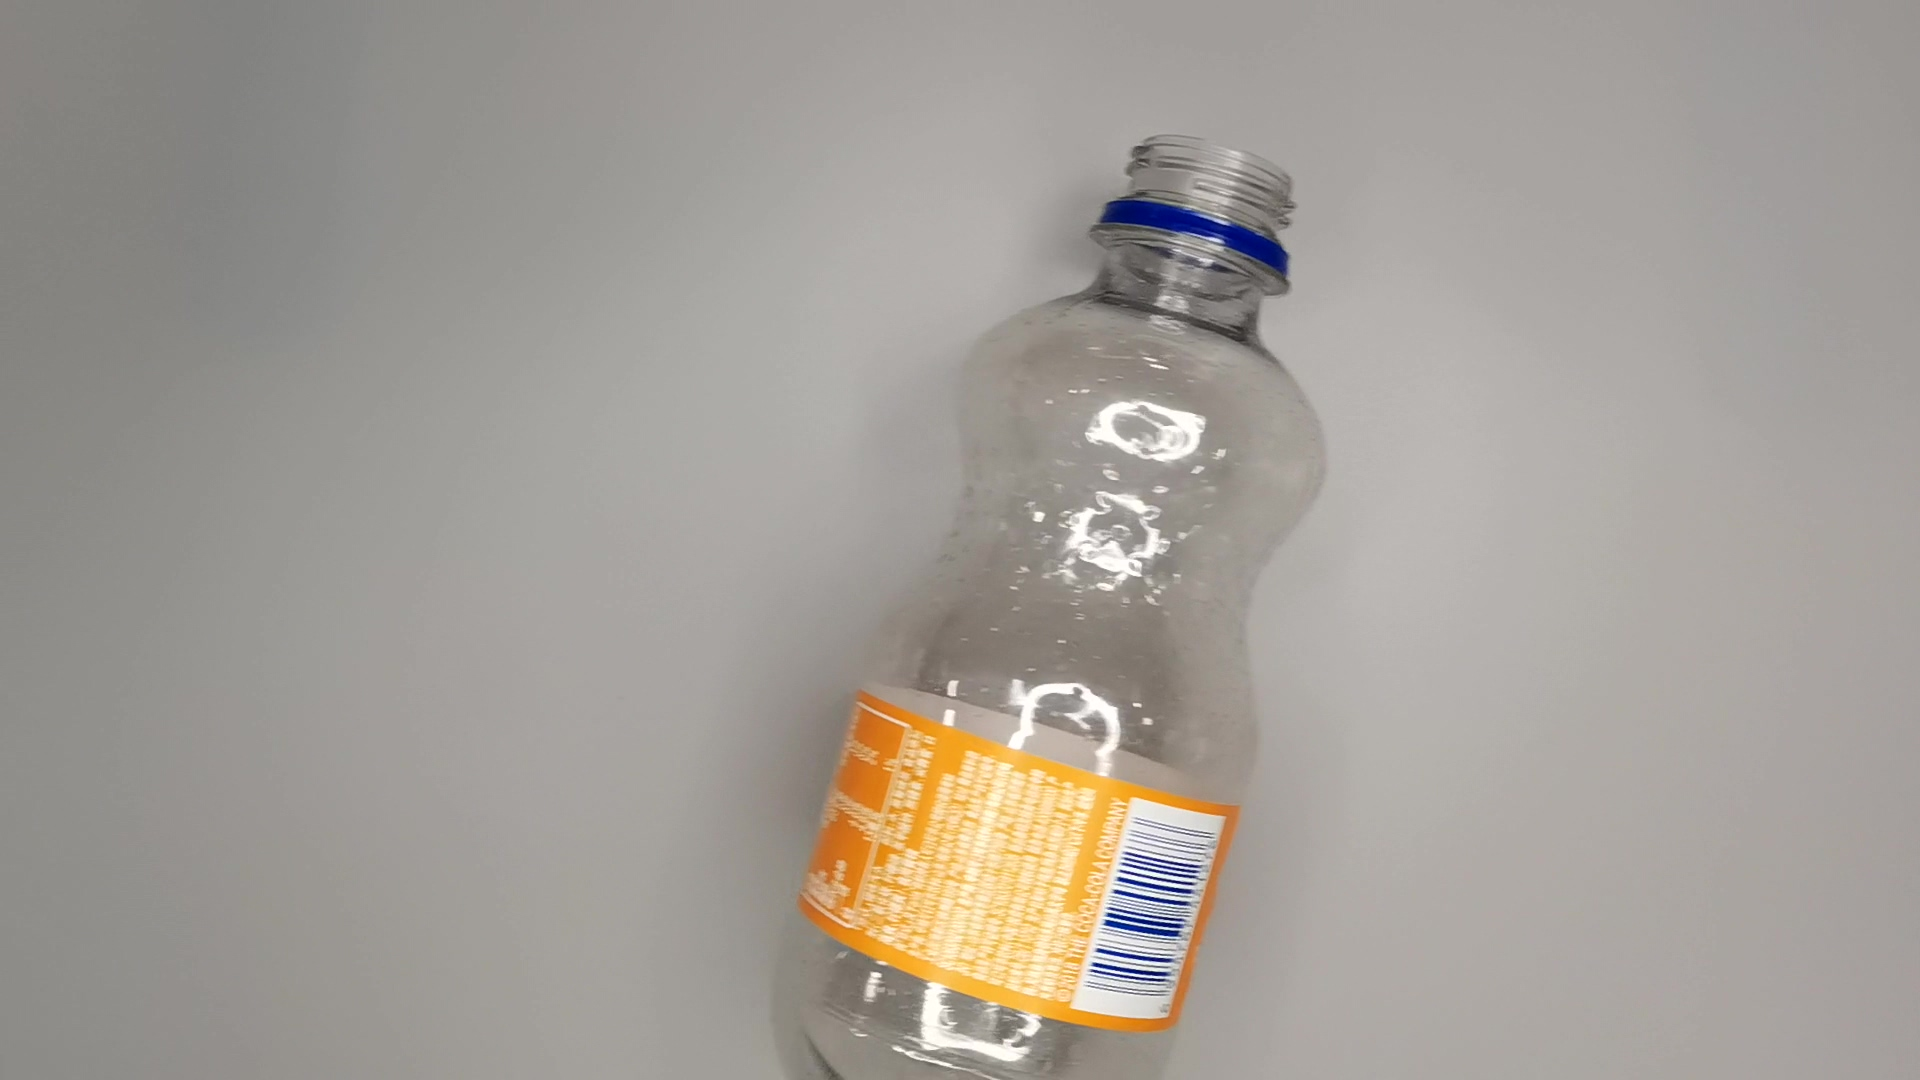bottle: (774, 127, 1360, 1080)
